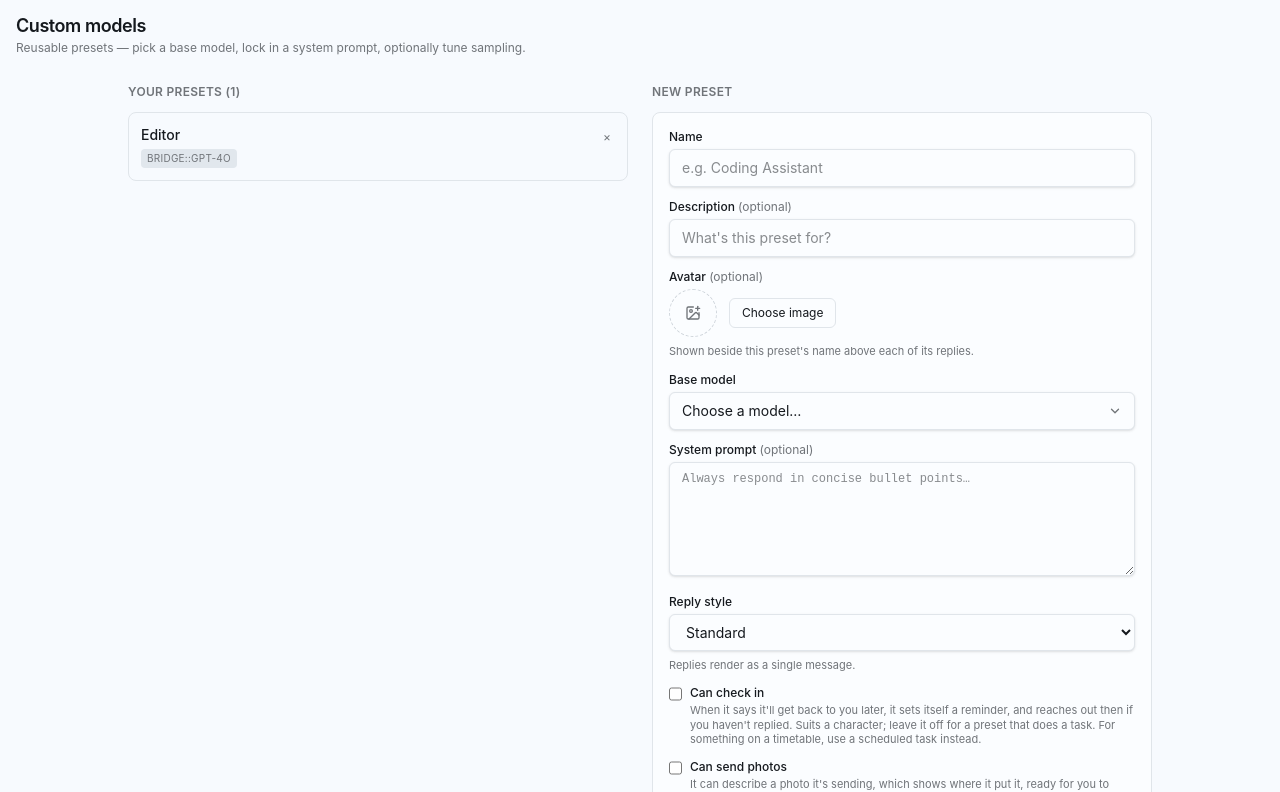
Test case: custom models — check-ins › keeps a saved preset’s choice when its style changes
Step 1. Click the button "Editor bridge::gpt-4o" → [161, 134], box [141,125,591,168]
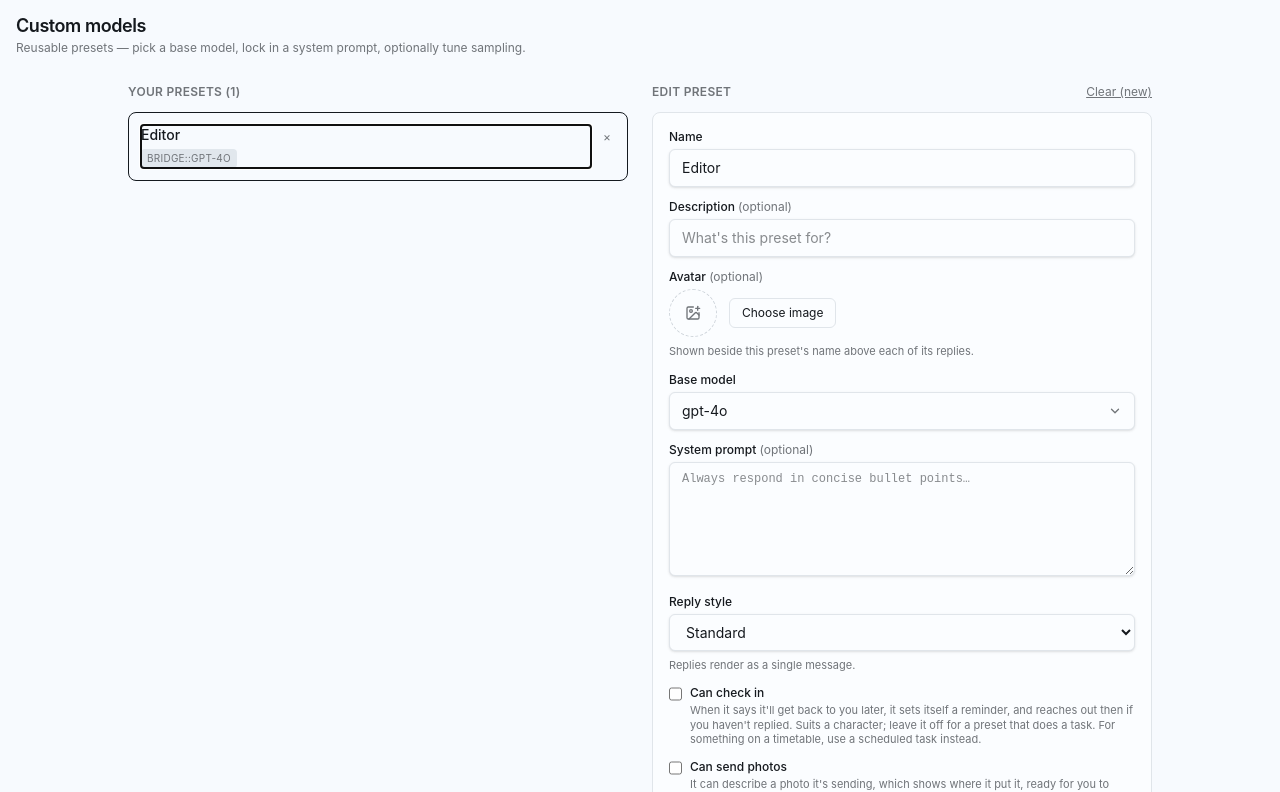
Step 2. Select "Texting" in the dropdown labelled "Reply style" → [902, 632], box [669,614,1135,650]
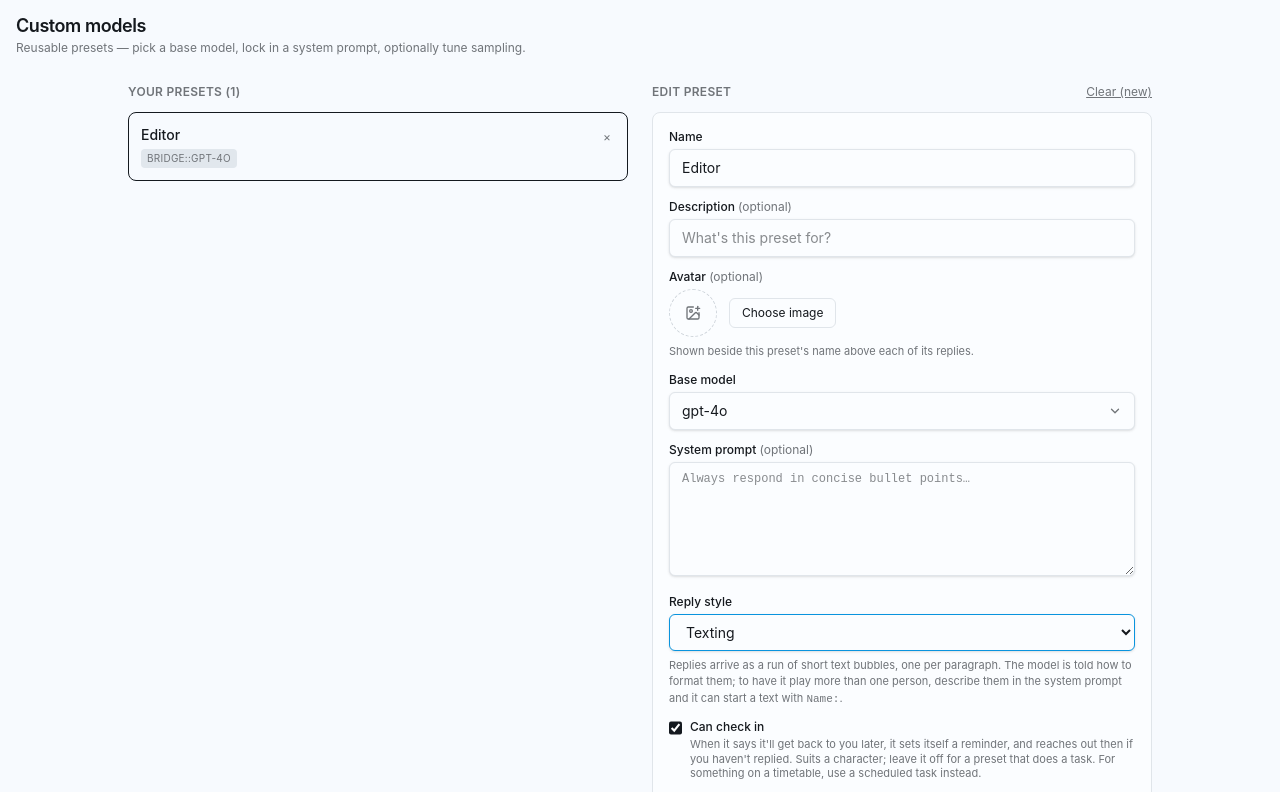
Expected: the checkbox labelled "Can check in" is checked, [669,721,682,735]
